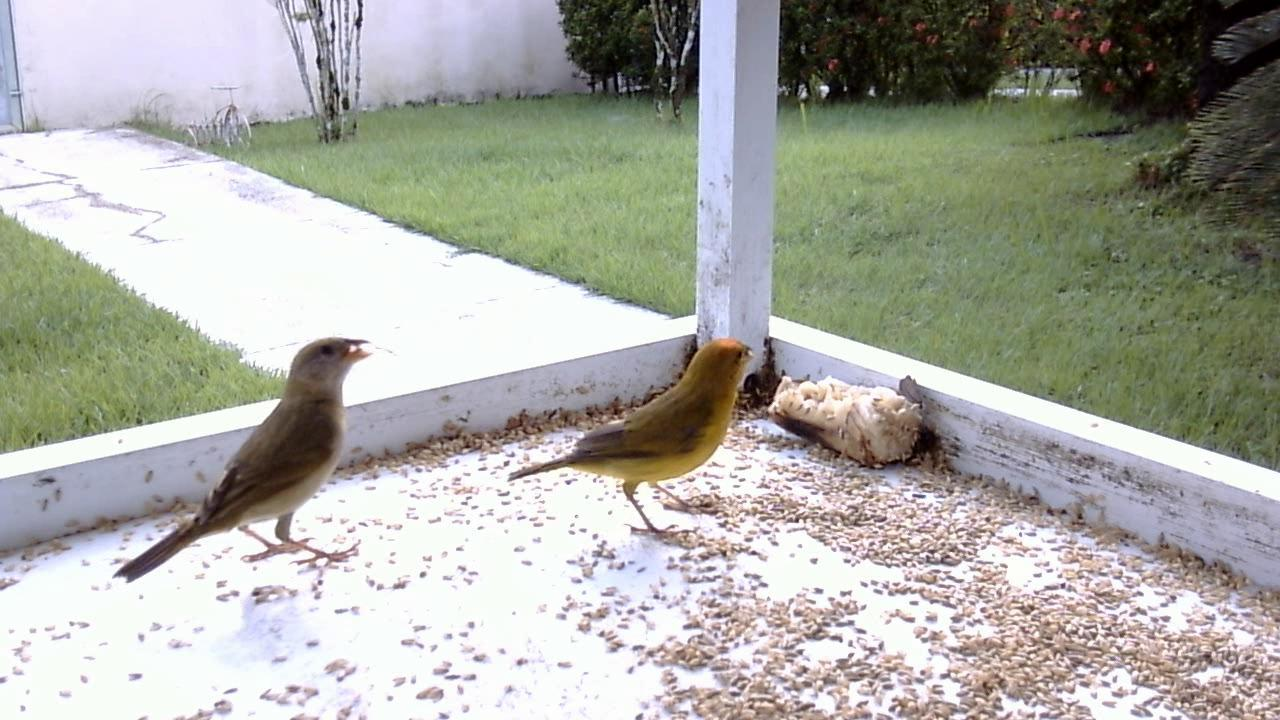canario_do_amazonas: (105, 334, 394, 592), (501, 332, 756, 556)
